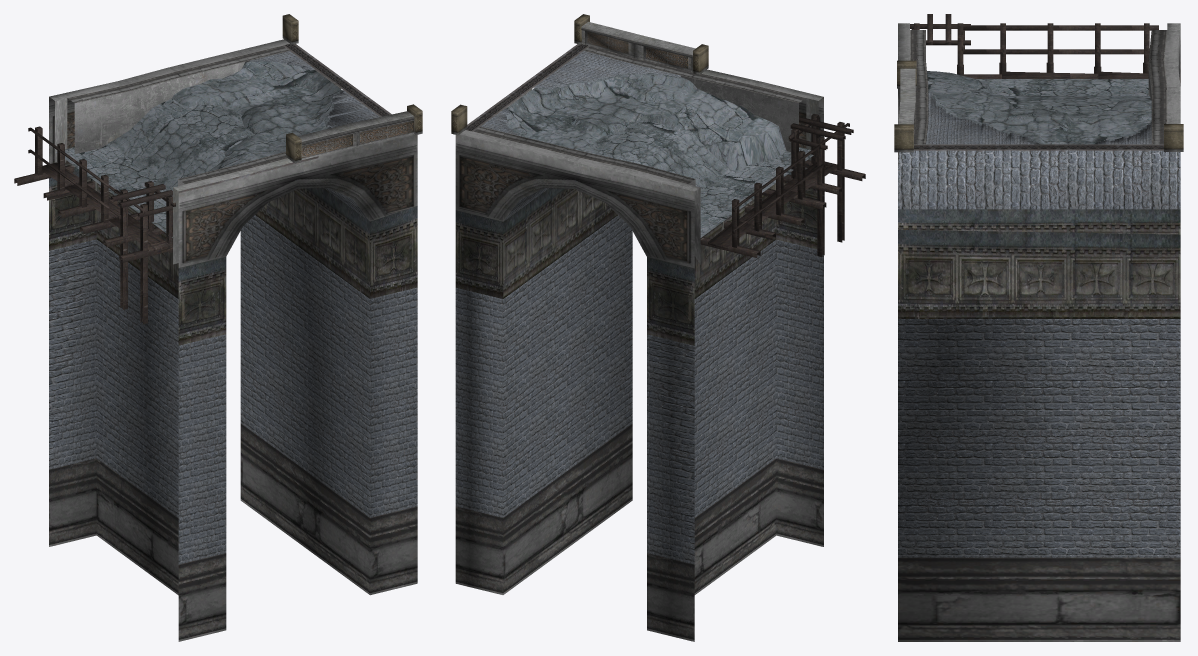
Rendered from BridgeCliff.fbx.
3 views of the same model, side by side, from view 1: azimuth 30°, elevation 25°; view 2: azimuth 150°, elevation 25°; view 3: azimuth 270°, elevation 25° (orthographic). The views are drawn at different scales.
Visible parts, largest first — view 1: SMO_BG50_ground_LD16_025_ILCA; view 2: SMO_BG50_ground_LD16_025_ILCA; view 3: SMO_BG50_ground_LD16_025_ILCA.
Boxes of the visible parts, x1=… form: SMO_BG50_ground_LD16_025_ILCA: x1=14, y1=14, x2=422, y2=641; SMO_BG50_ground_LD16_025_ILCA: x1=451, y1=14, x2=865, y2=641; SMO_BG50_ground_LD16_025_ILCA: x1=894, y1=14, x2=1183, y2=641.
Bounding box in the file's own units: 3109 × 4825 × 2454.
